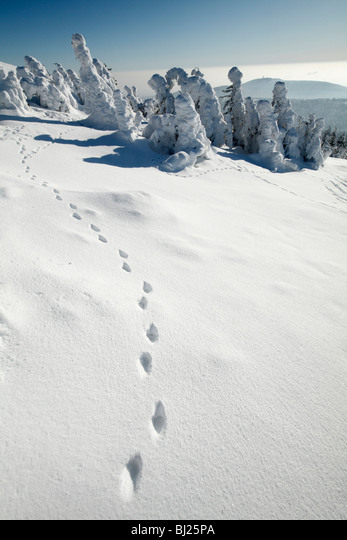fox: (122, 453, 146, 497), (150, 404, 170, 437), (143, 322, 165, 348), (138, 350, 157, 378)
